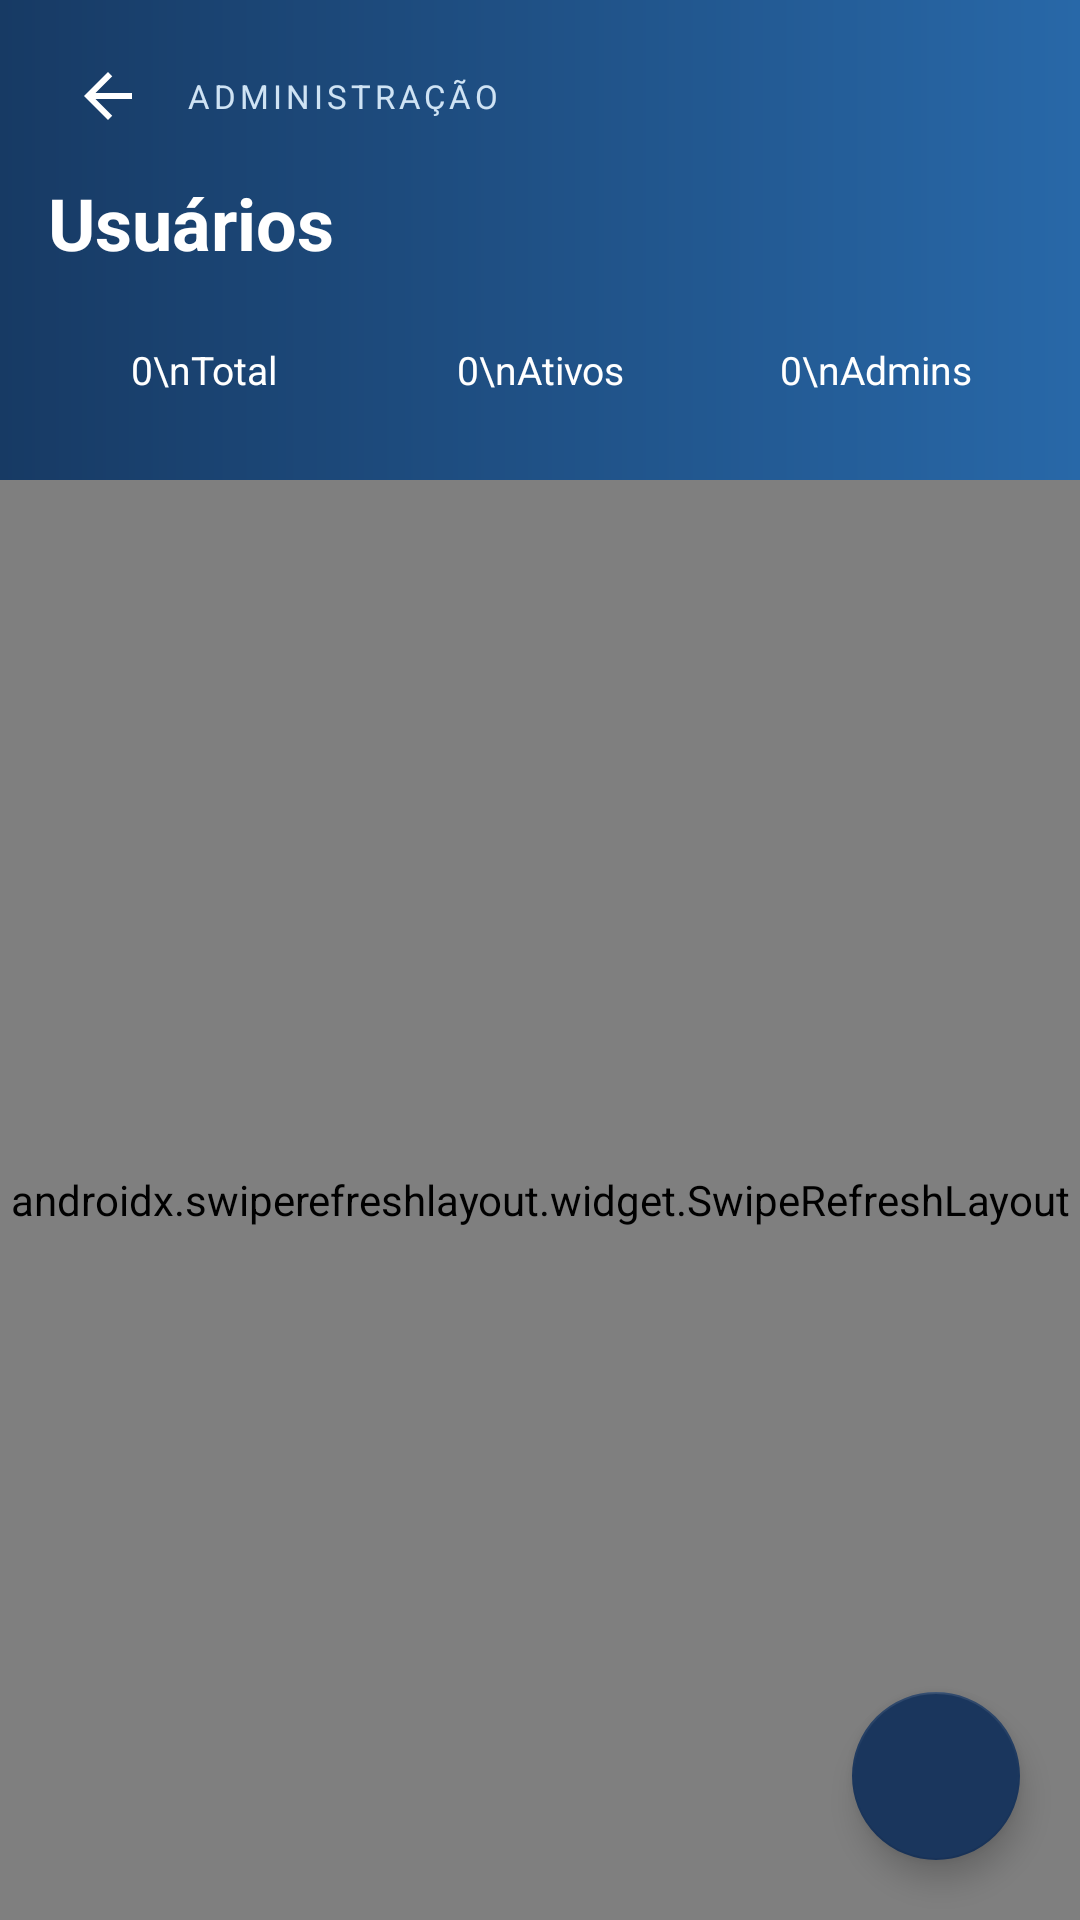

Locate icon controls on the screen. Image size 1080 x 1920, boxes as bbox(x1, y1, x2, y2).
Voltar: bbox(84, 72, 132, 120)
